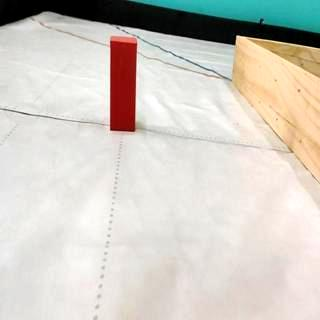redbox: (109, 35, 136, 133)
